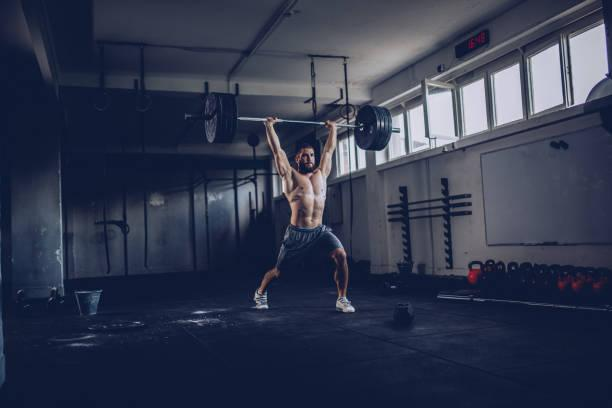no_helmet: (294, 162, 316, 177)
none: (276, 174, 336, 216)
